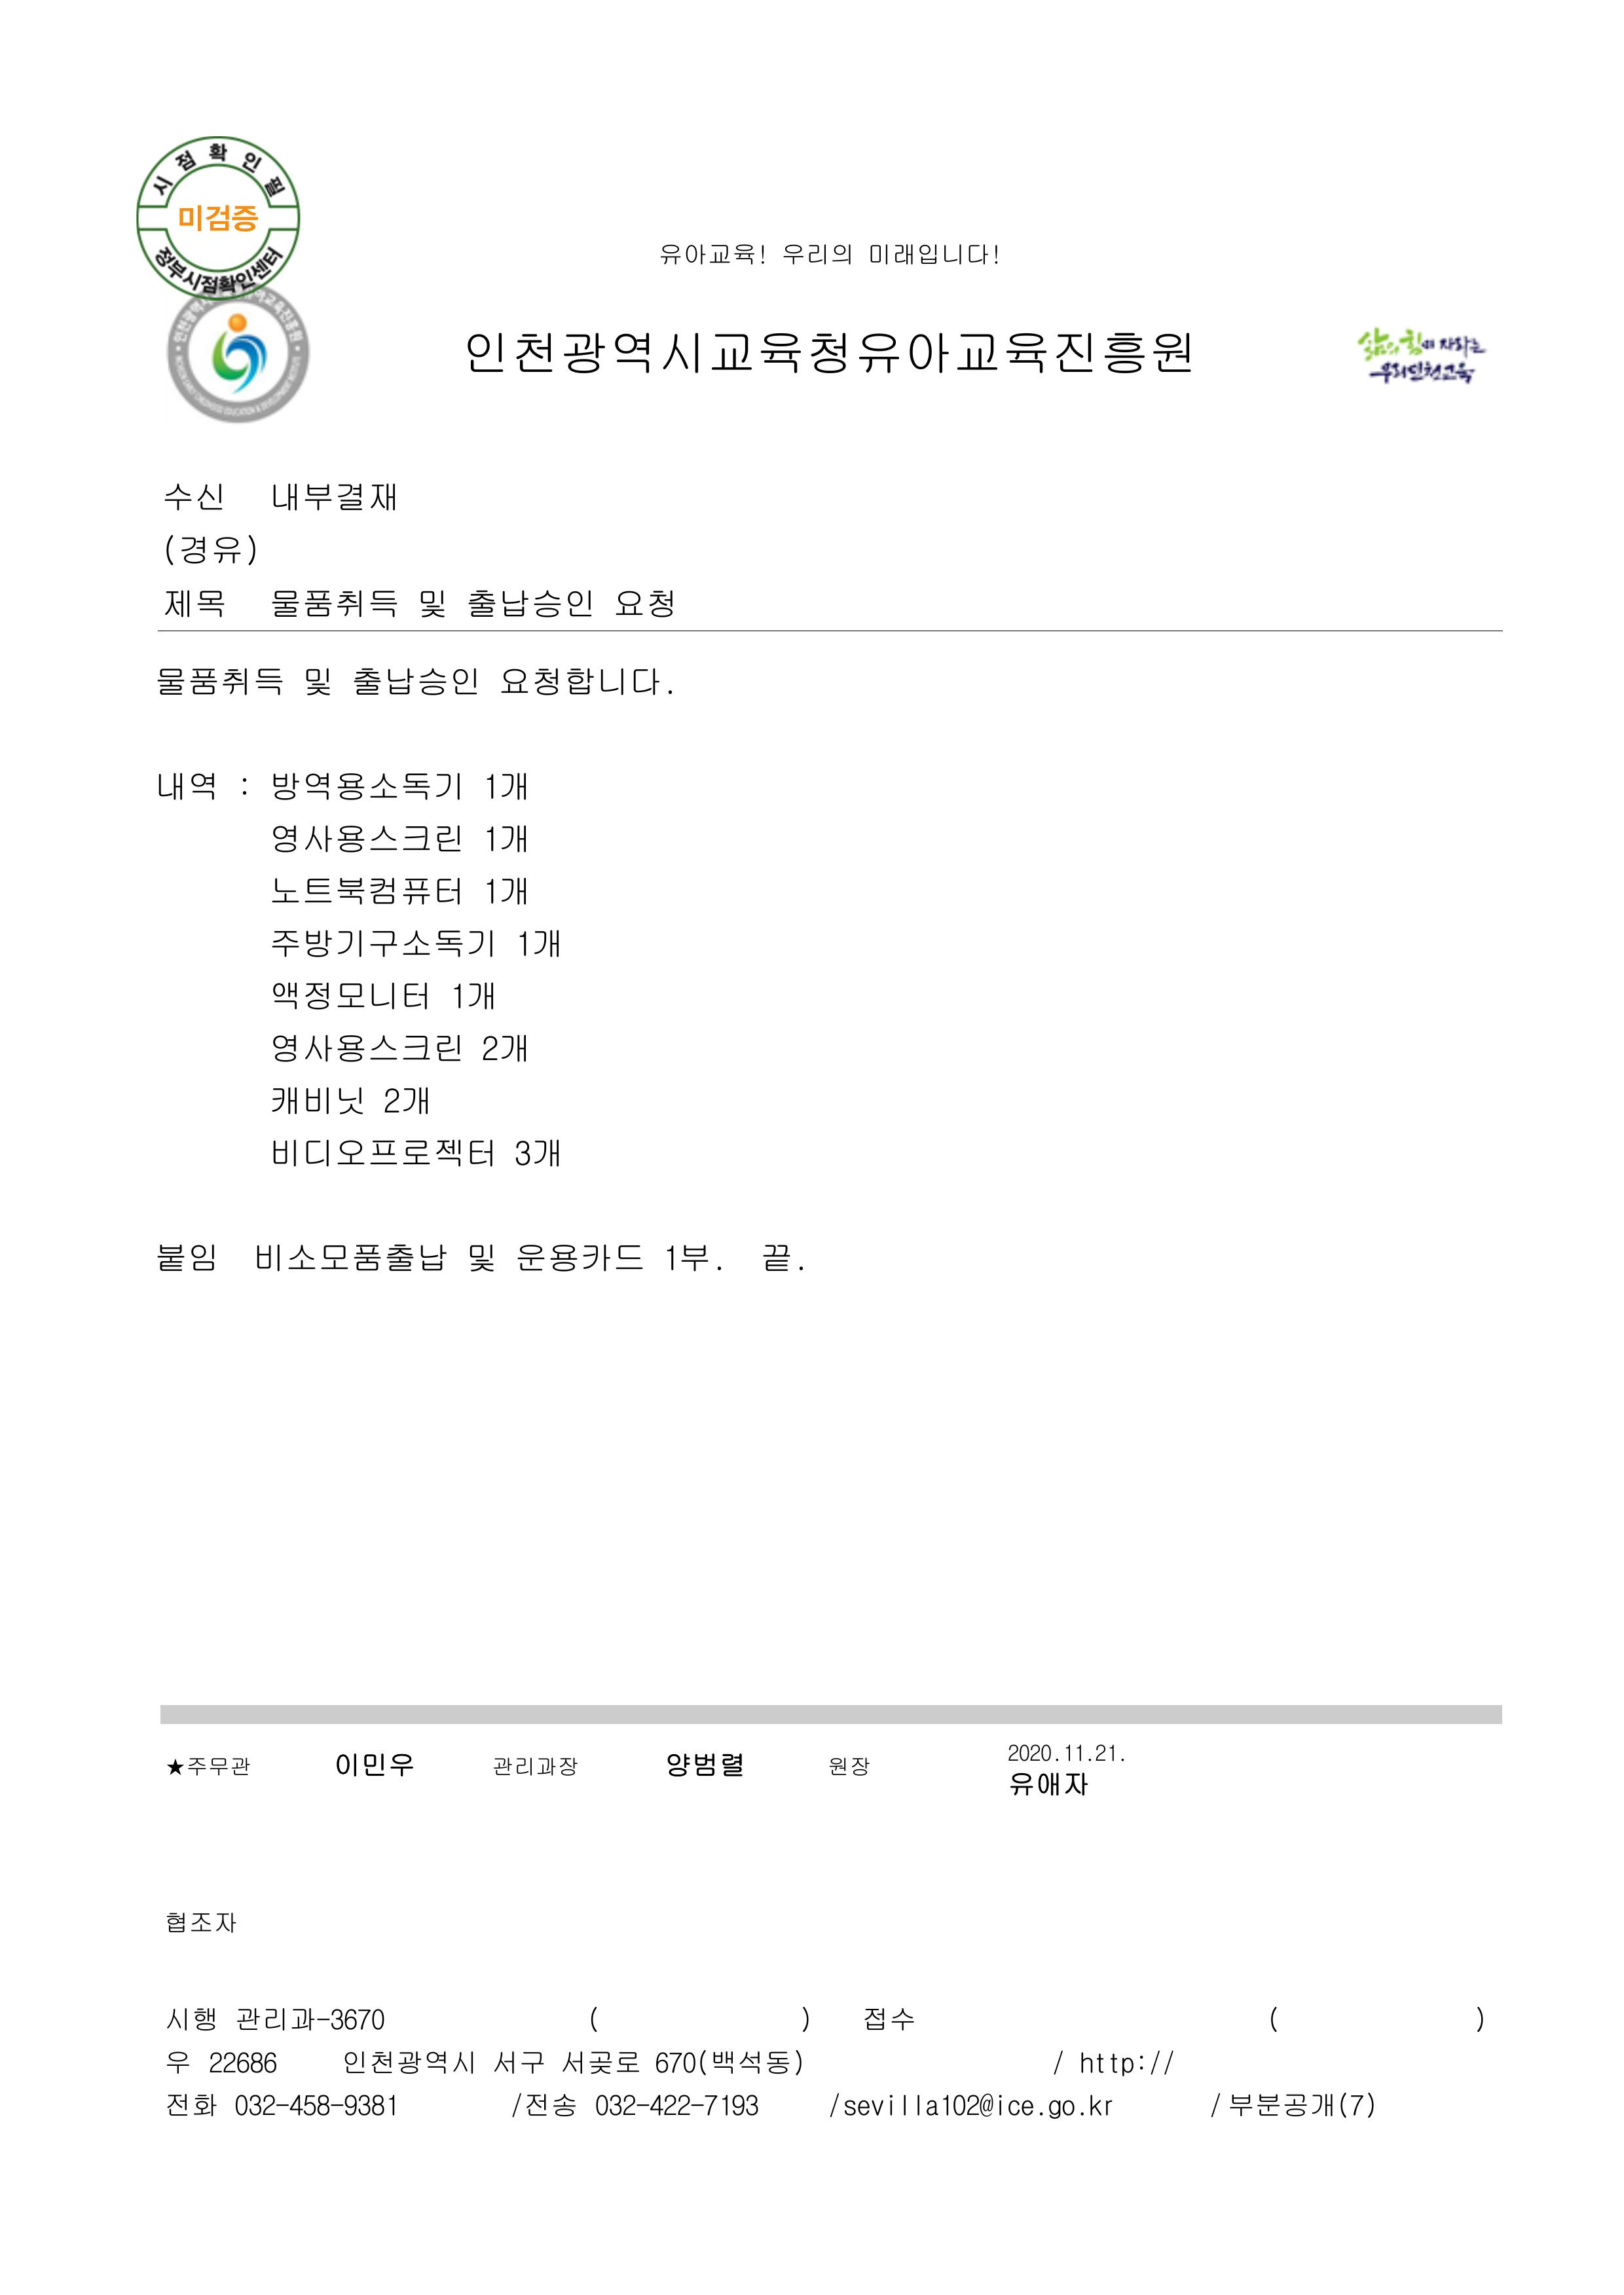t: (466, 325, 1194, 380), (268, 925, 498, 961), (268, 1133, 494, 1169), (251, 1237, 448, 1276), (268, 767, 462, 803), (268, 871, 462, 907), (268, 1029, 462, 1065), (268, 821, 462, 856), (498, 663, 667, 699), (268, 979, 430, 1014), (652, 2044, 807, 2080), (1226, 2087, 1377, 2123), (268, 477, 397, 516), (462, 584, 595, 620), (348, 663, 480, 699), (268, 584, 397, 620), (516, 1240, 645, 1276), (154, 663, 283, 699), (341, 2047, 477, 2080), (1359, 329, 1485, 358), (161, 530, 258, 566), (268, 1082, 365, 1118), (555, 2044, 642, 2080), (175, 200, 258, 236), (1007, 1767, 1090, 1800), (333, 1746, 416, 1778), (663, 1750, 746, 1782), (1370, 362, 1473, 387), (290, 2008, 387, 2033), (161, 584, 226, 620), (154, 767, 219, 803), (1076, 2045, 1149, 2076), (157, 1240, 219, 1276), (613, 584, 674, 620), (509, 2087, 577, 2119), (164, 1907, 240, 1936), (918, 244, 1004, 268), (950, 2094, 1036, 2119), (204, 2047, 280, 2076), (659, 1240, 717, 1276), (164, 480, 226, 513), (477, 1029, 530, 1065), (480, 767, 530, 803), (513, 925, 563, 961), (168, 1757, 251, 1778), (699, 2090, 760, 2119), (341, 2090, 401, 2119), (509, 1137, 563, 1169), (232, 2004, 290, 2033), (380, 1082, 430, 1115), (480, 821, 530, 853), (480, 875, 530, 907), (448, 979, 498, 1011), (706, 244, 771, 268), (164, 2004, 219, 2033), (591, 2090, 645, 2119), (645, 2090, 699, 2119), (491, 2047, 545, 2076), (229, 2090, 280, 2119), (283, 2090, 333, 2119), (164, 2094, 222, 2119), (842, 2094, 900, 2119), (756, 1240, 796, 1276), (462, 1240, 498, 1276), (864, 2008, 914, 2033), (659, 244, 710, 268), (781, 244, 828, 268), (868, 244, 914, 268), (416, 588, 448, 623), (301, 663, 333, 699), (1047, 2097, 1090, 2123), (1007, 1742, 1054, 1764), (534, 1757, 581, 1778), (828, 1757, 871, 1778), (1144, 2047, 1176, 2076), (1086, 1742, 1122, 1767), (494, 1757, 534, 1778), (896, 2090, 925, 2119), (1086, 2097, 1115, 2119), (1061, 1742, 1090, 1764), (168, 2051, 190, 2076), (925, 2097, 943, 2119), (832, 244, 849, 265)
